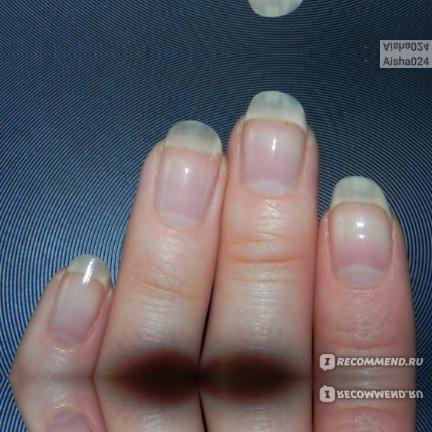Nail: (153, 120, 222, 227), (329, 176, 392, 288), (241, 91, 307, 197), (46, 254, 111, 347), (46, 409, 93, 432), (247, 0, 303, 17)
